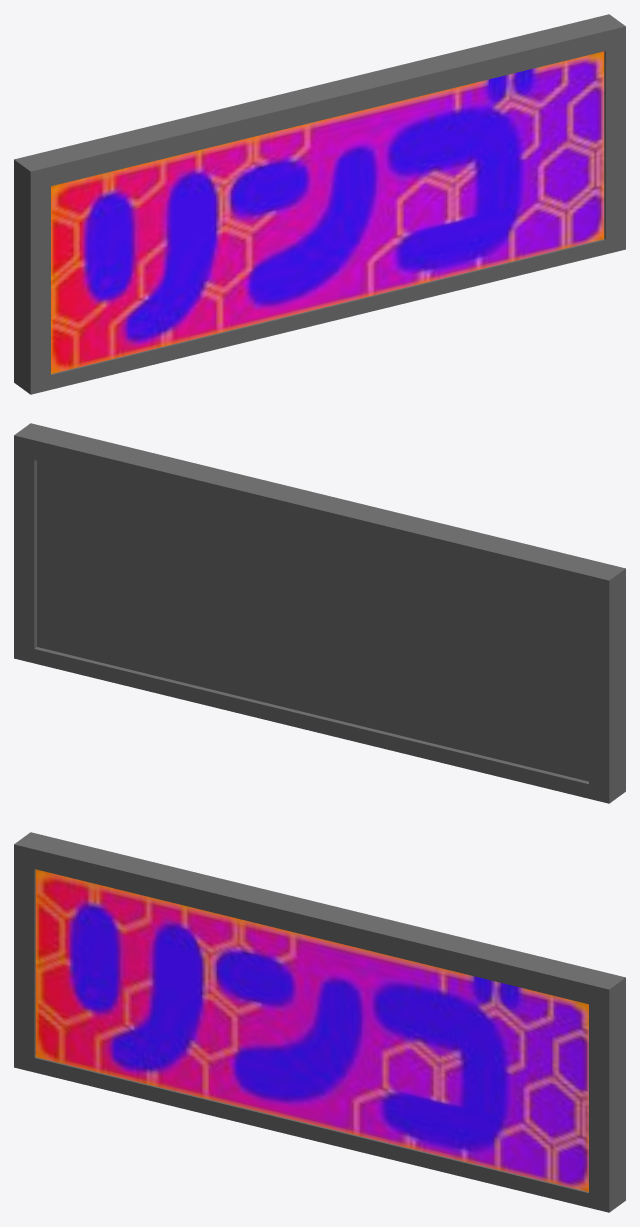
Rendered from Sign_3.glb.
The picture shows the model from 3 angles, top to bottom: view 1: azimuth 30°, elevation 25°; view 2: azimuth 150°, elevation 25°; view 3: azimuth 330°, elevation 25°; orthographic projection.
Parts seen in each view (by area): view 1: Sign_3; view 2: Sign_3; view 3: Sign_3.
Part boxes in pixels (x1=…): Sign_3: x1=14, y1=14, x2=625, y2=394; Sign_3: x1=14, y1=423, x2=625, y2=803; Sign_3: x1=14, y1=832, x2=625, y2=1212.
Size of the model in its own units: 1.27 by 0.4555 by 0.0618.
2 materials, 1 textured.
